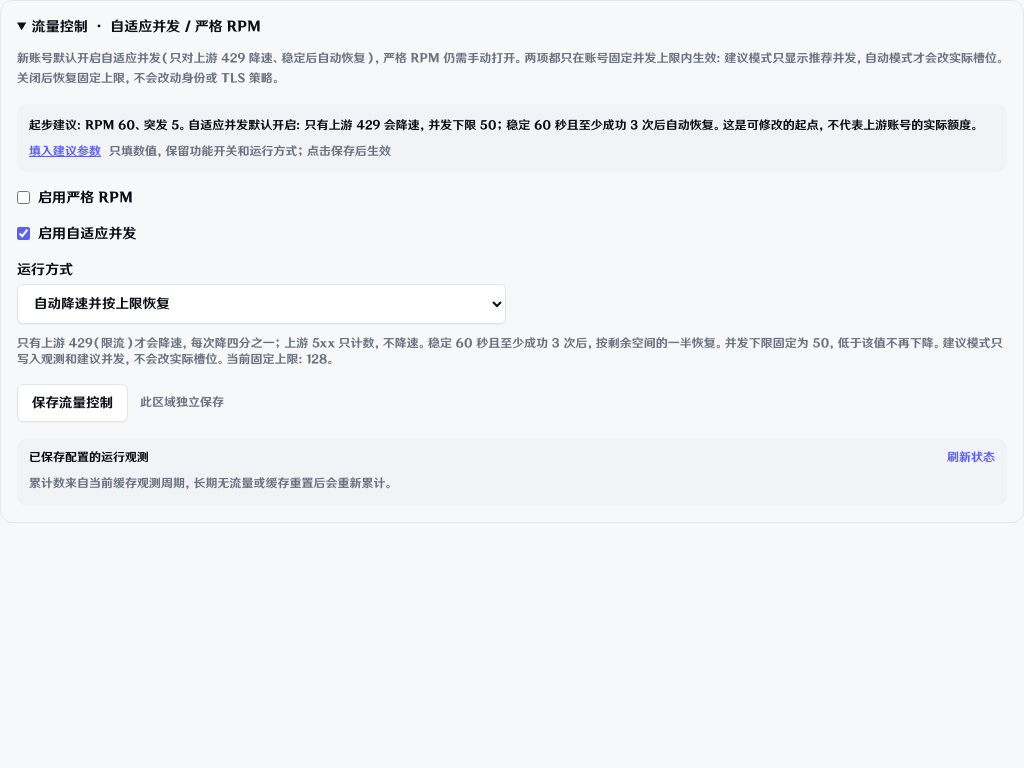
Test: optional account traffic controls › does not save a burst larger than the rolling minute limit
The width and height of the screenshot is (1024, 768).
Click the checkbox with test id "strict-rpm-toggle".
click(24, 198)  # box top-left (17, 191), bottom-right (30, 204)
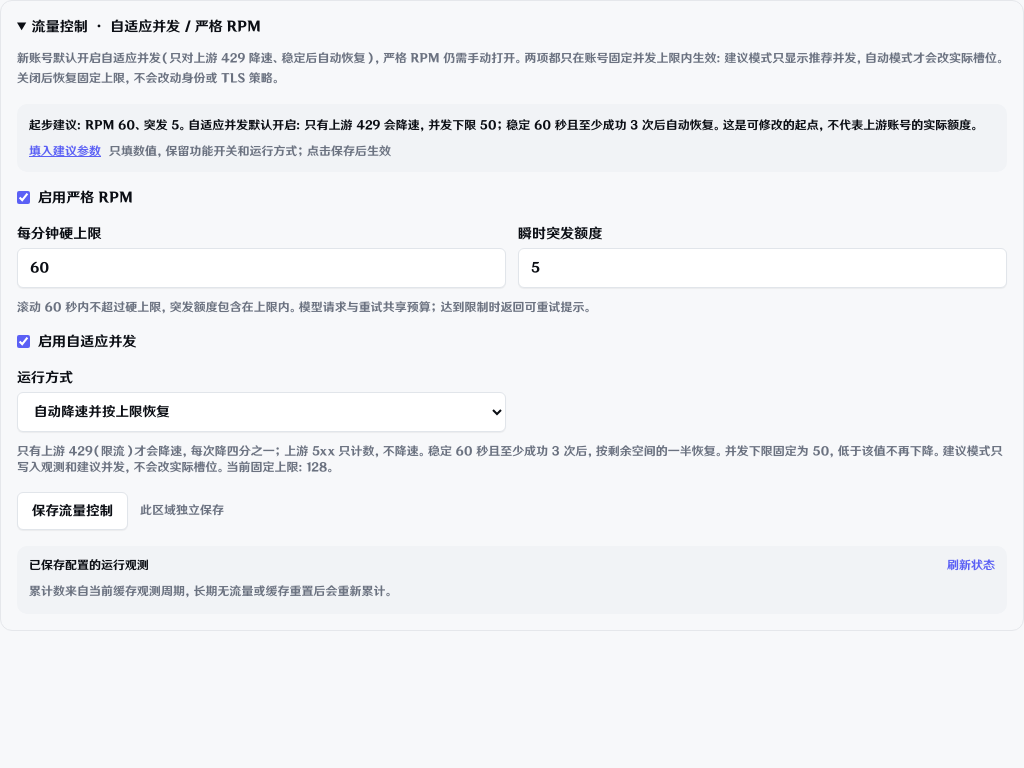
Replace the text in the number field labelled "每分钟硬上限" with "2" at (262, 268), box top-left (17, 248), bottom-right (506, 288)
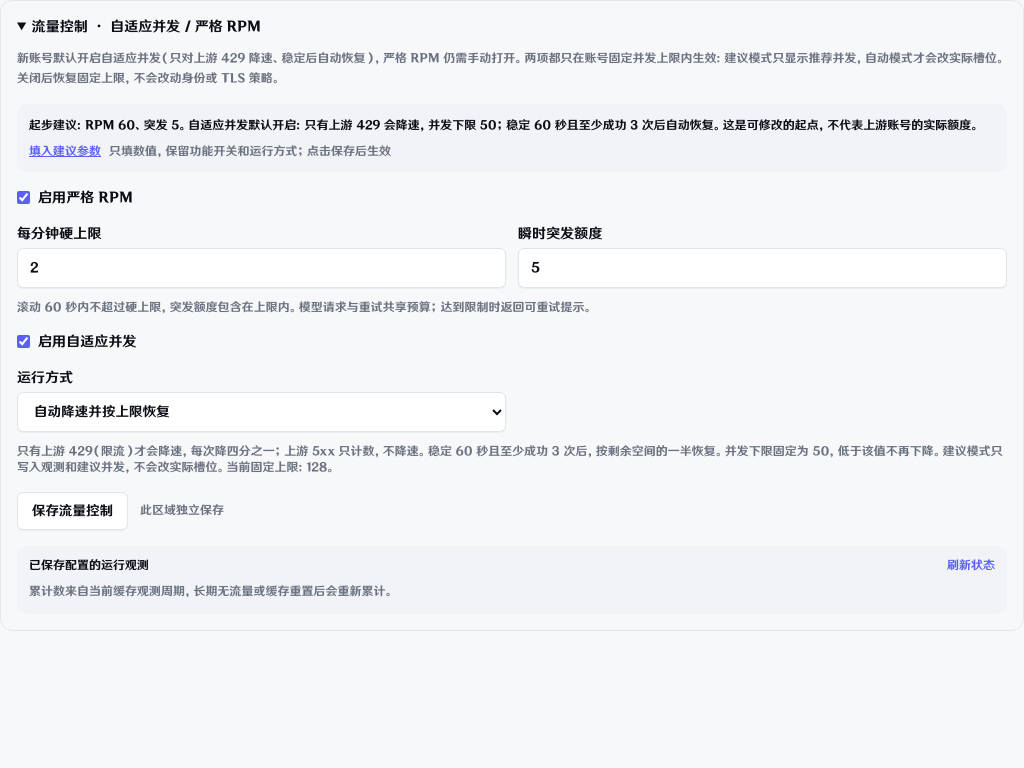
Replace the text in the number field labelled "瞬时突发额度" with "3" at (762, 268), box top-left (518, 248), bottom-right (1007, 288)
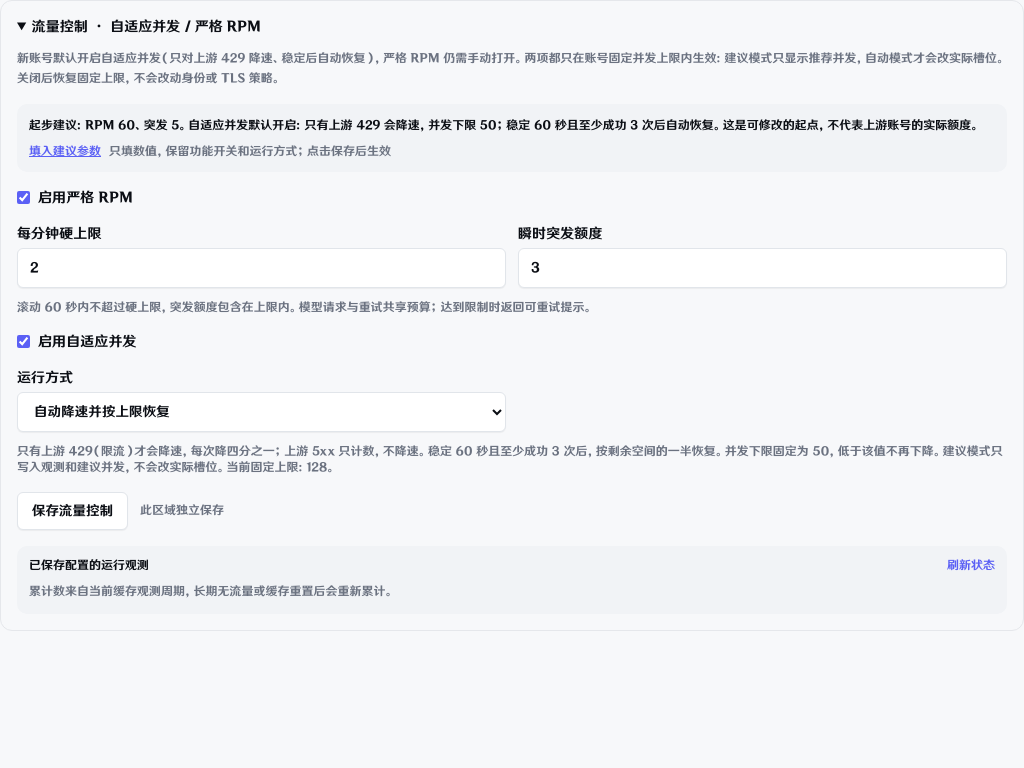
Click the button "保存流量控制".
click(72, 510)  # box top-left (17, 492), bottom-right (128, 530)
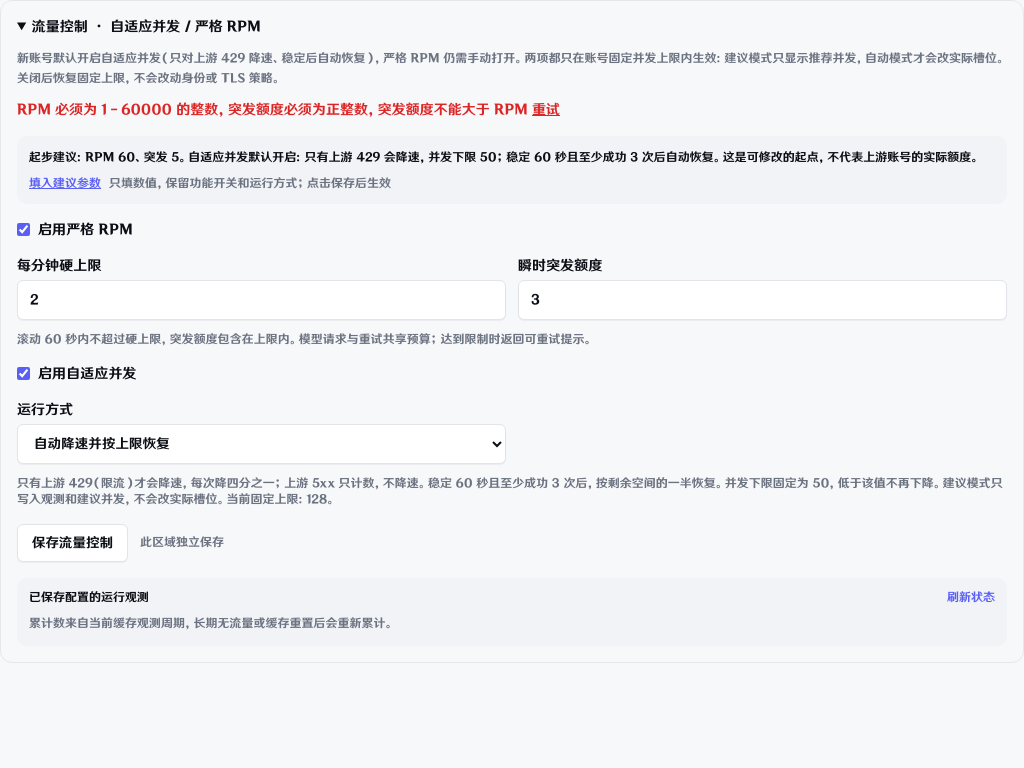
Expected: the element that starts with "流量控制 · 自适应并发 / 严格 RPM" shows "突发额度不能大于 RPM", top-left (17, 101), bottom-right (532, 118)
